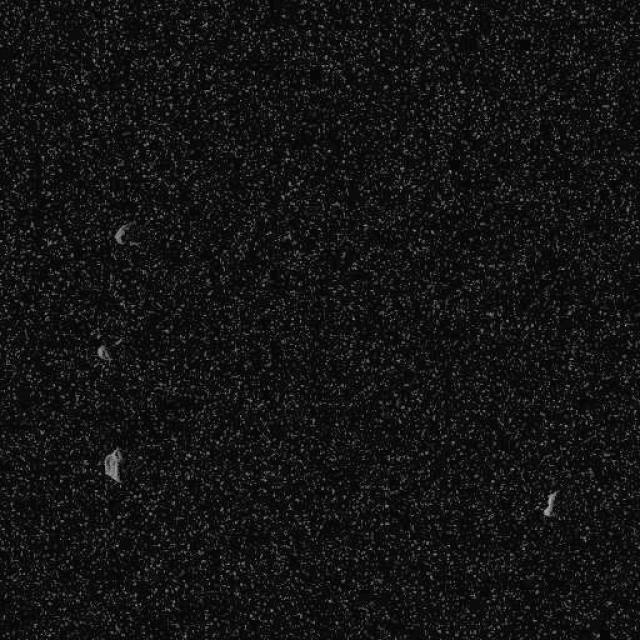D2: (101, 446, 122, 484), (112, 219, 138, 246), (542, 490, 558, 518), (95, 342, 111, 362)
